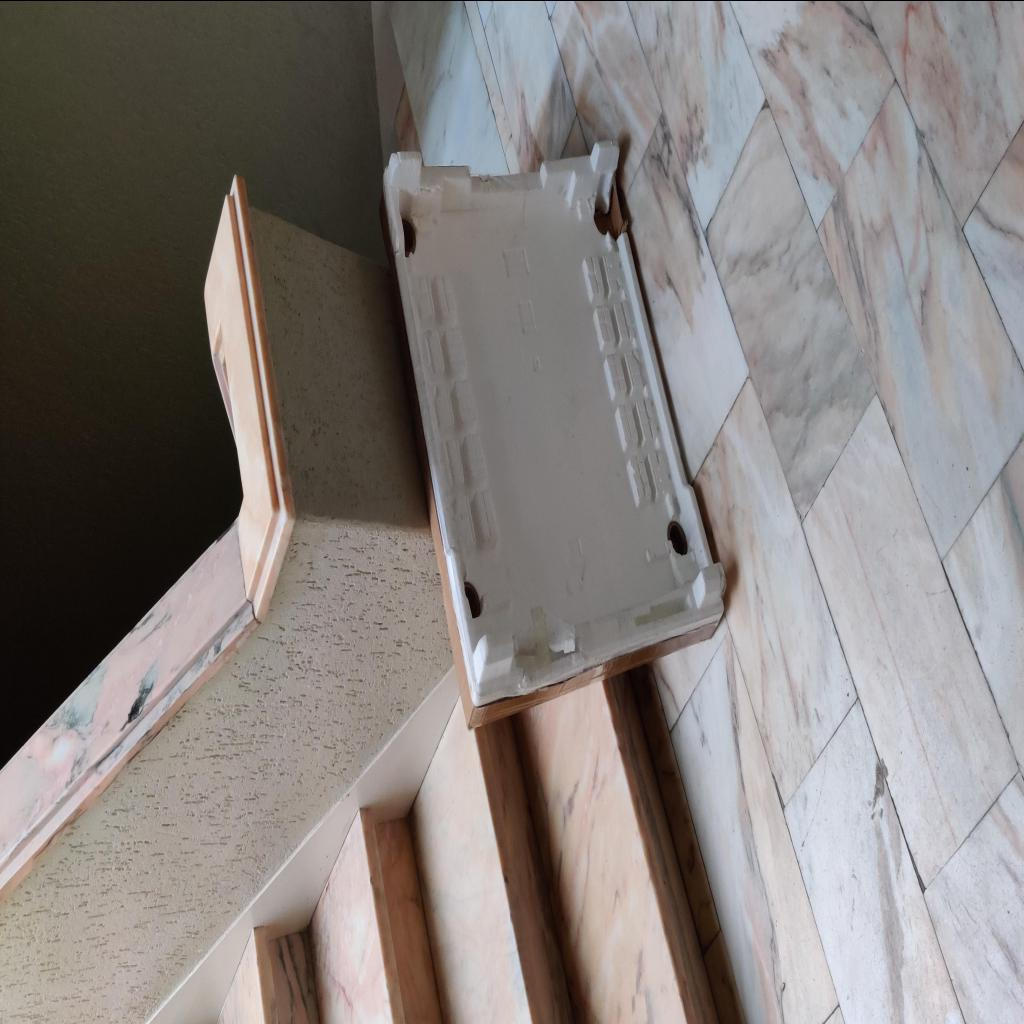Corrugated carton: (378, 190, 720, 728), (597, 183, 627, 239)
Styrofoam piece: (384, 139, 726, 707)
